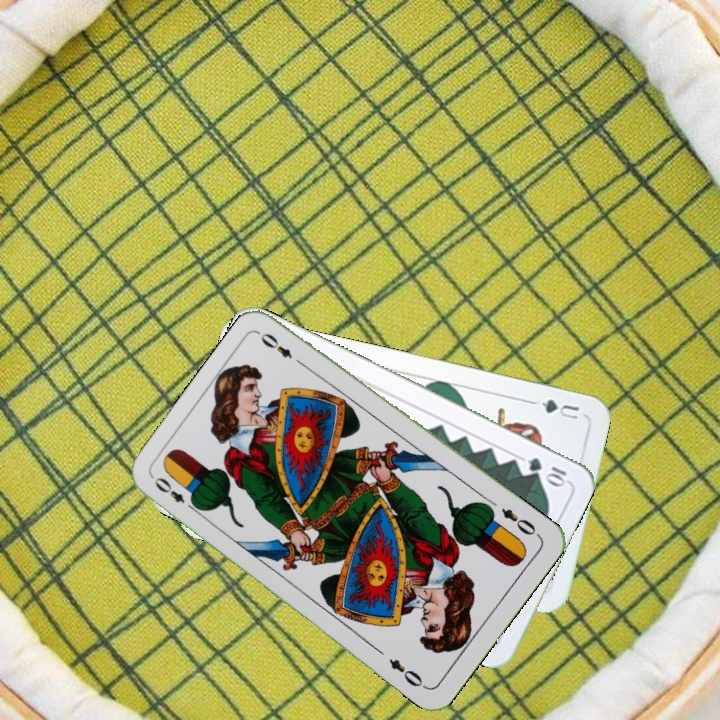EO: (150, 473, 201, 515), (497, 504, 543, 540)
G10: (523, 453, 570, 488)
GU: (537, 395, 582, 422)
